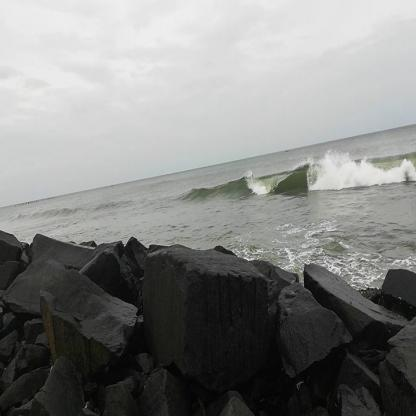other: (307, 140, 412, 193)
